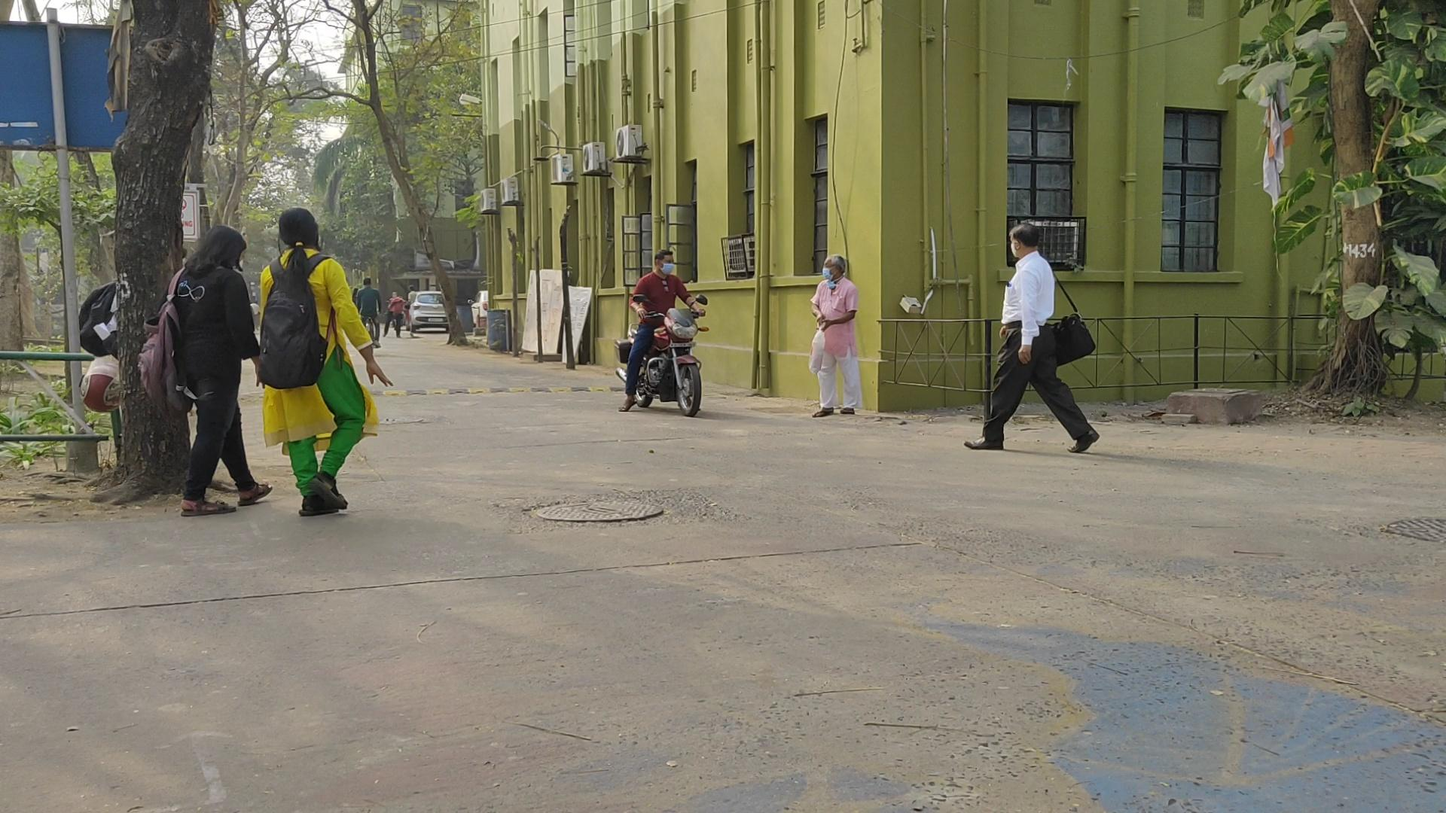bike: (615, 248, 709, 417), (355, 278, 383, 353)
car: (404, 290, 451, 334)
